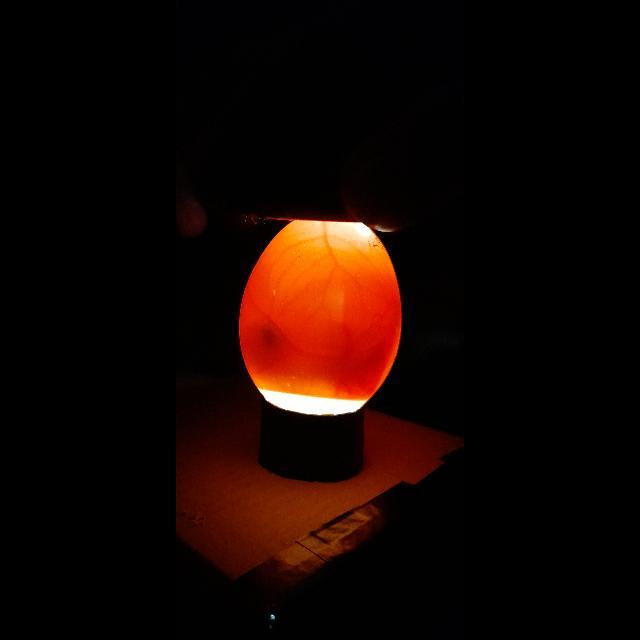Fertile: (238, 215, 412, 419)
